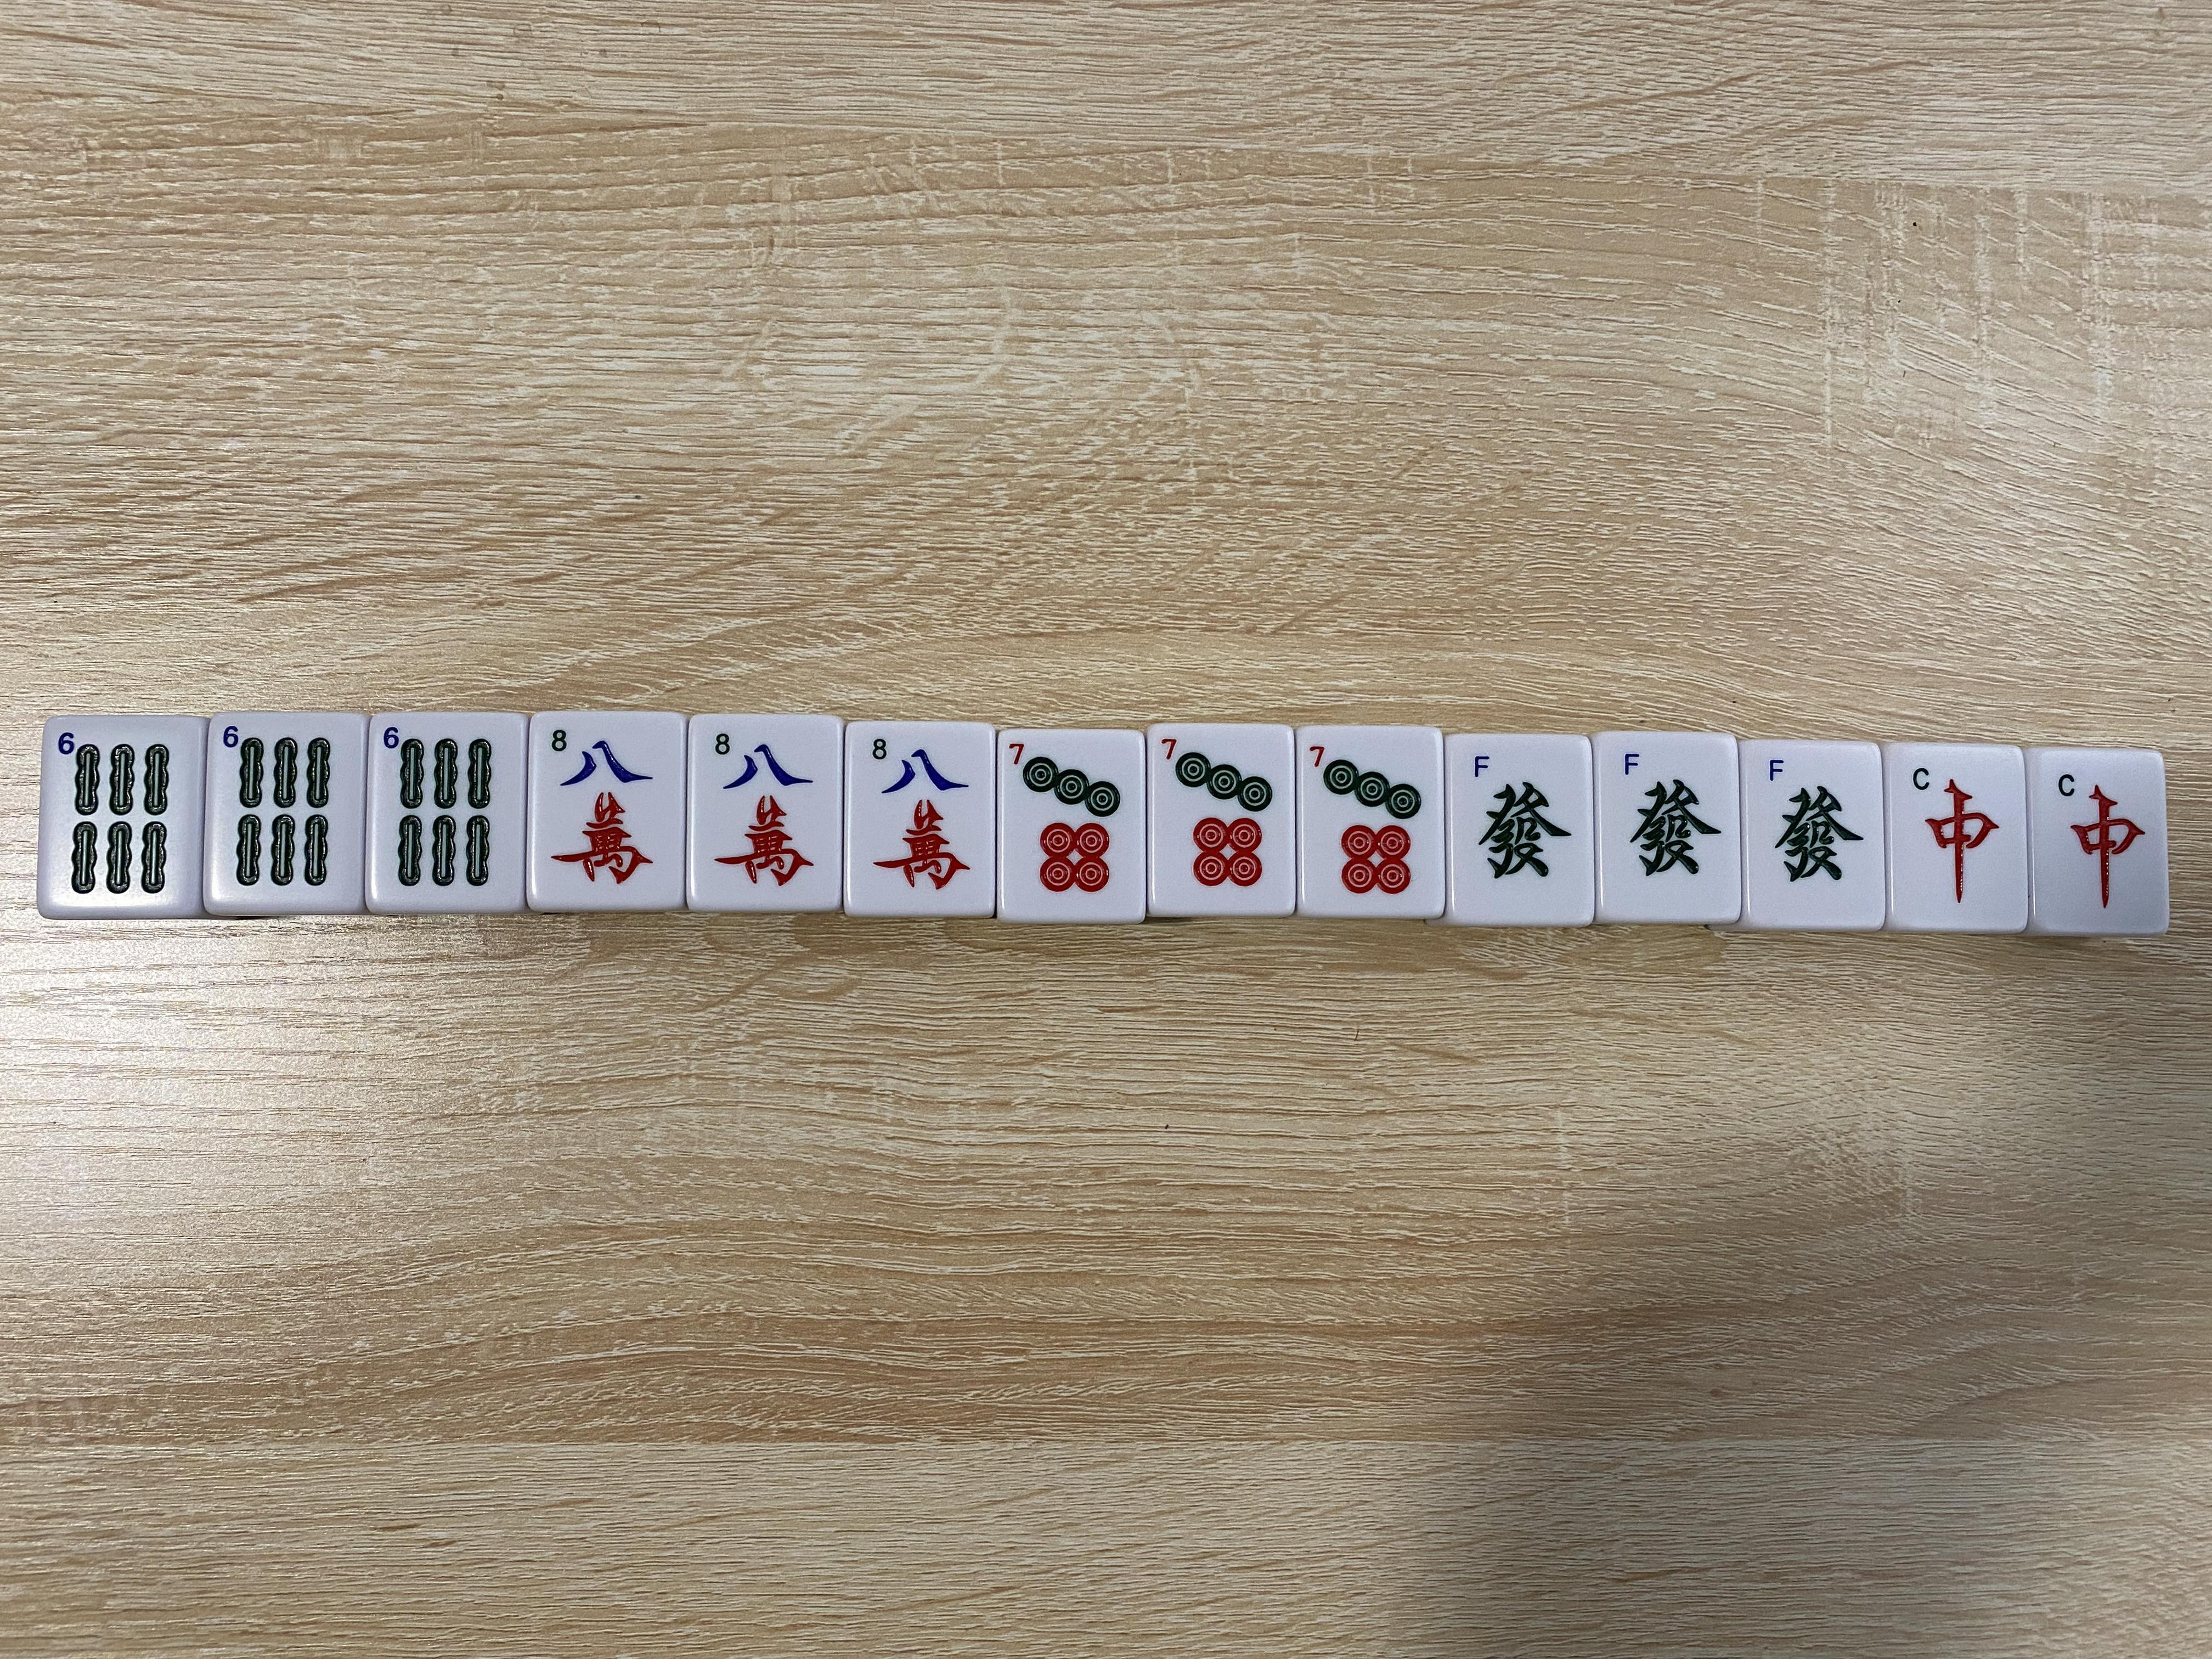bamboo-six: (45, 721, 197, 915), (212, 714, 359, 911), (376, 718, 519, 908)
character-eight: (690, 718, 836, 908), (848, 723, 993, 915), (535, 718, 683, 904)
circle-seven: (1298, 727, 1446, 917), (1146, 725, 1294, 915), (1000, 730, 1144, 920)
honor-green_dragon: (1447, 737, 1595, 924), (1597, 734, 1742, 920), (1742, 744, 1886, 927)
honor-red_dragon: (1888, 746, 2029, 931), (2027, 749, 2168, 932)
